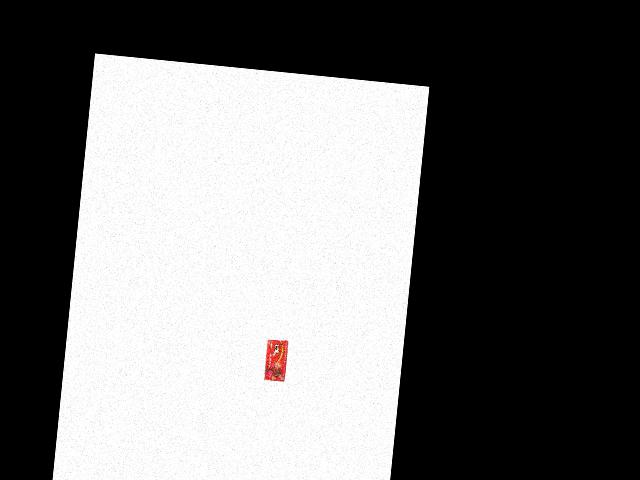chocolate: (264, 336, 290, 382)
